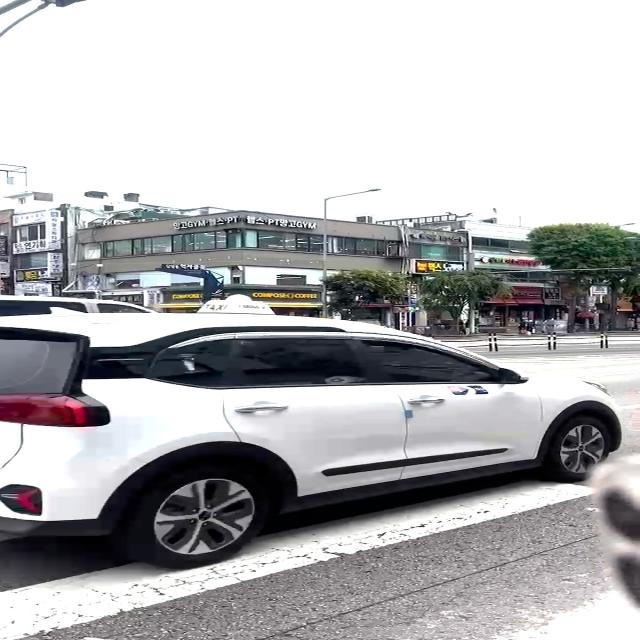building: (67, 201, 480, 279)
car: (0, 293, 623, 568)
